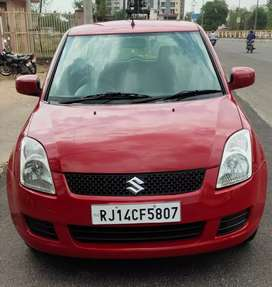RJ14CF5807: (90, 200, 180, 224)
